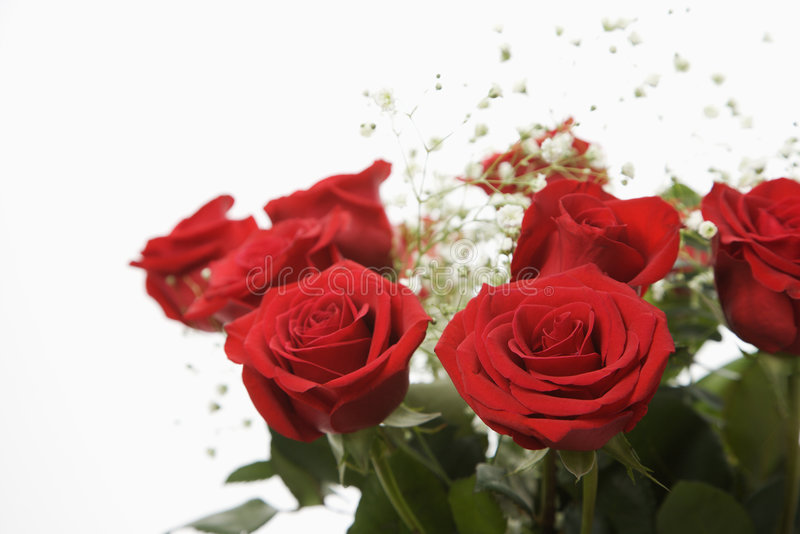RedRose: (426, 266, 682, 462), (215, 267, 426, 455), (517, 153, 683, 315), (125, 195, 302, 336), (261, 133, 405, 279), (694, 169, 800, 364)
